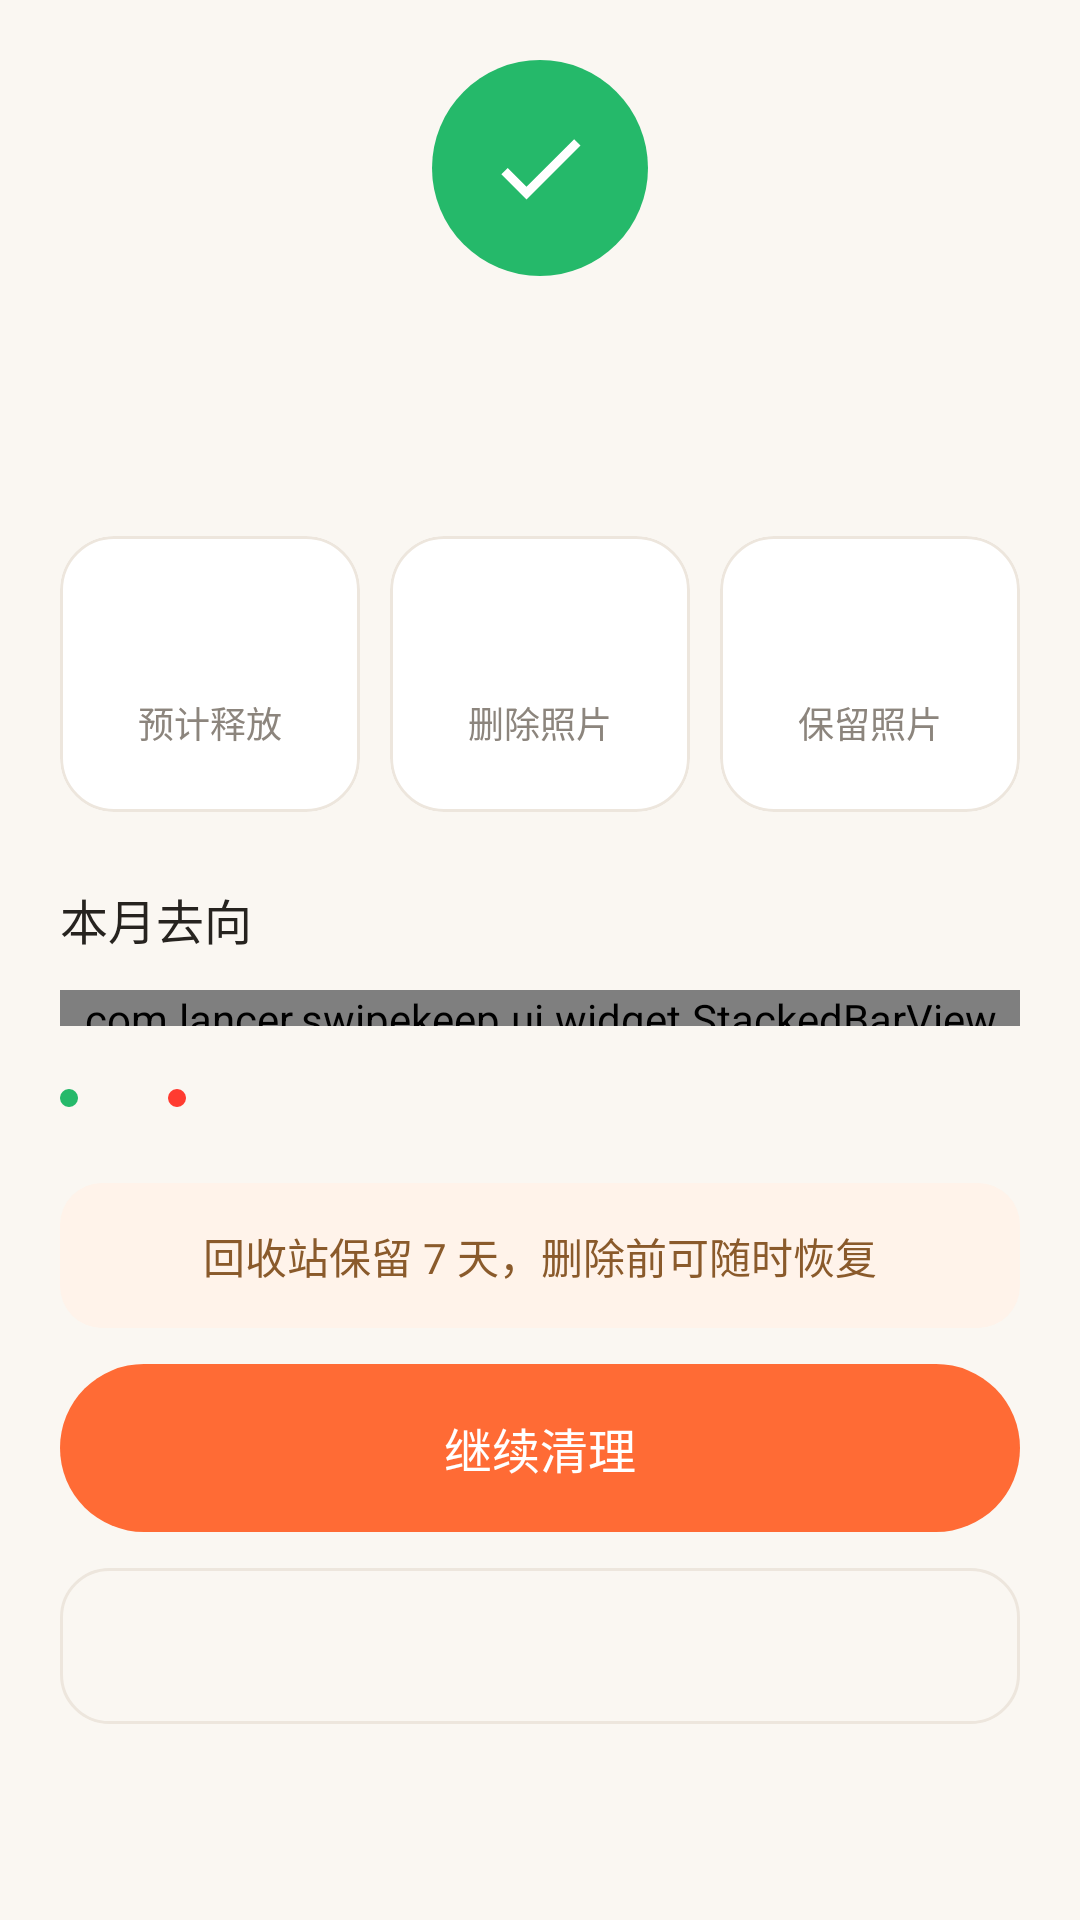

Icons on this 1080x1920 Android screen, each with the point to tap as (x,y):
check: (540,168)
